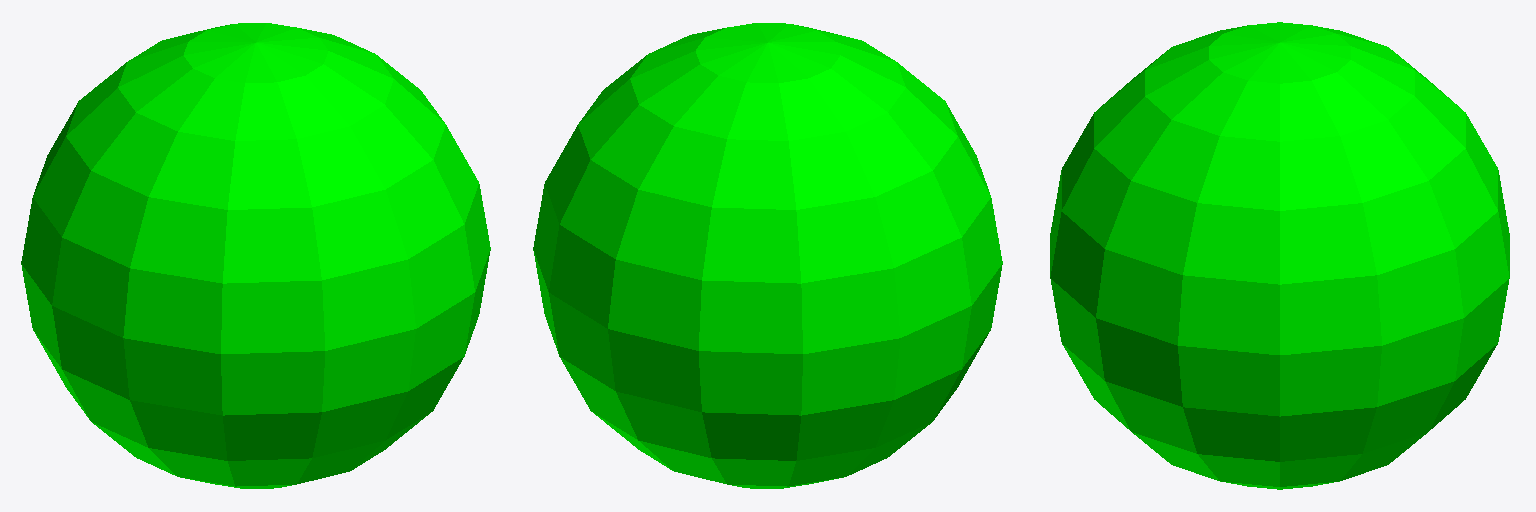
File: Ball.obj
3 renders of one model, left to right at view 1: azimuth 30°, elevation 25°; view 2: azimuth 150°, elevation 25°; view 3: azimuth 270°, elevation 25°, orthographic.
Visible parts, largest first — view 1: vsn_mesh_0_; view 2: vsn_mesh_0_; view 3: vsn_mesh_0_.
Boxes of the visible parts, <box> form: vsn_mesh_0_: <box>21,23,490,488</box>; vsn_mesh_0_: <box>533,23,1002,488</box>; vsn_mesh_0_: <box>1050,22,1509,489</box>.
Size of the model in its own units: 0.837 by 0.837 by 0.816.